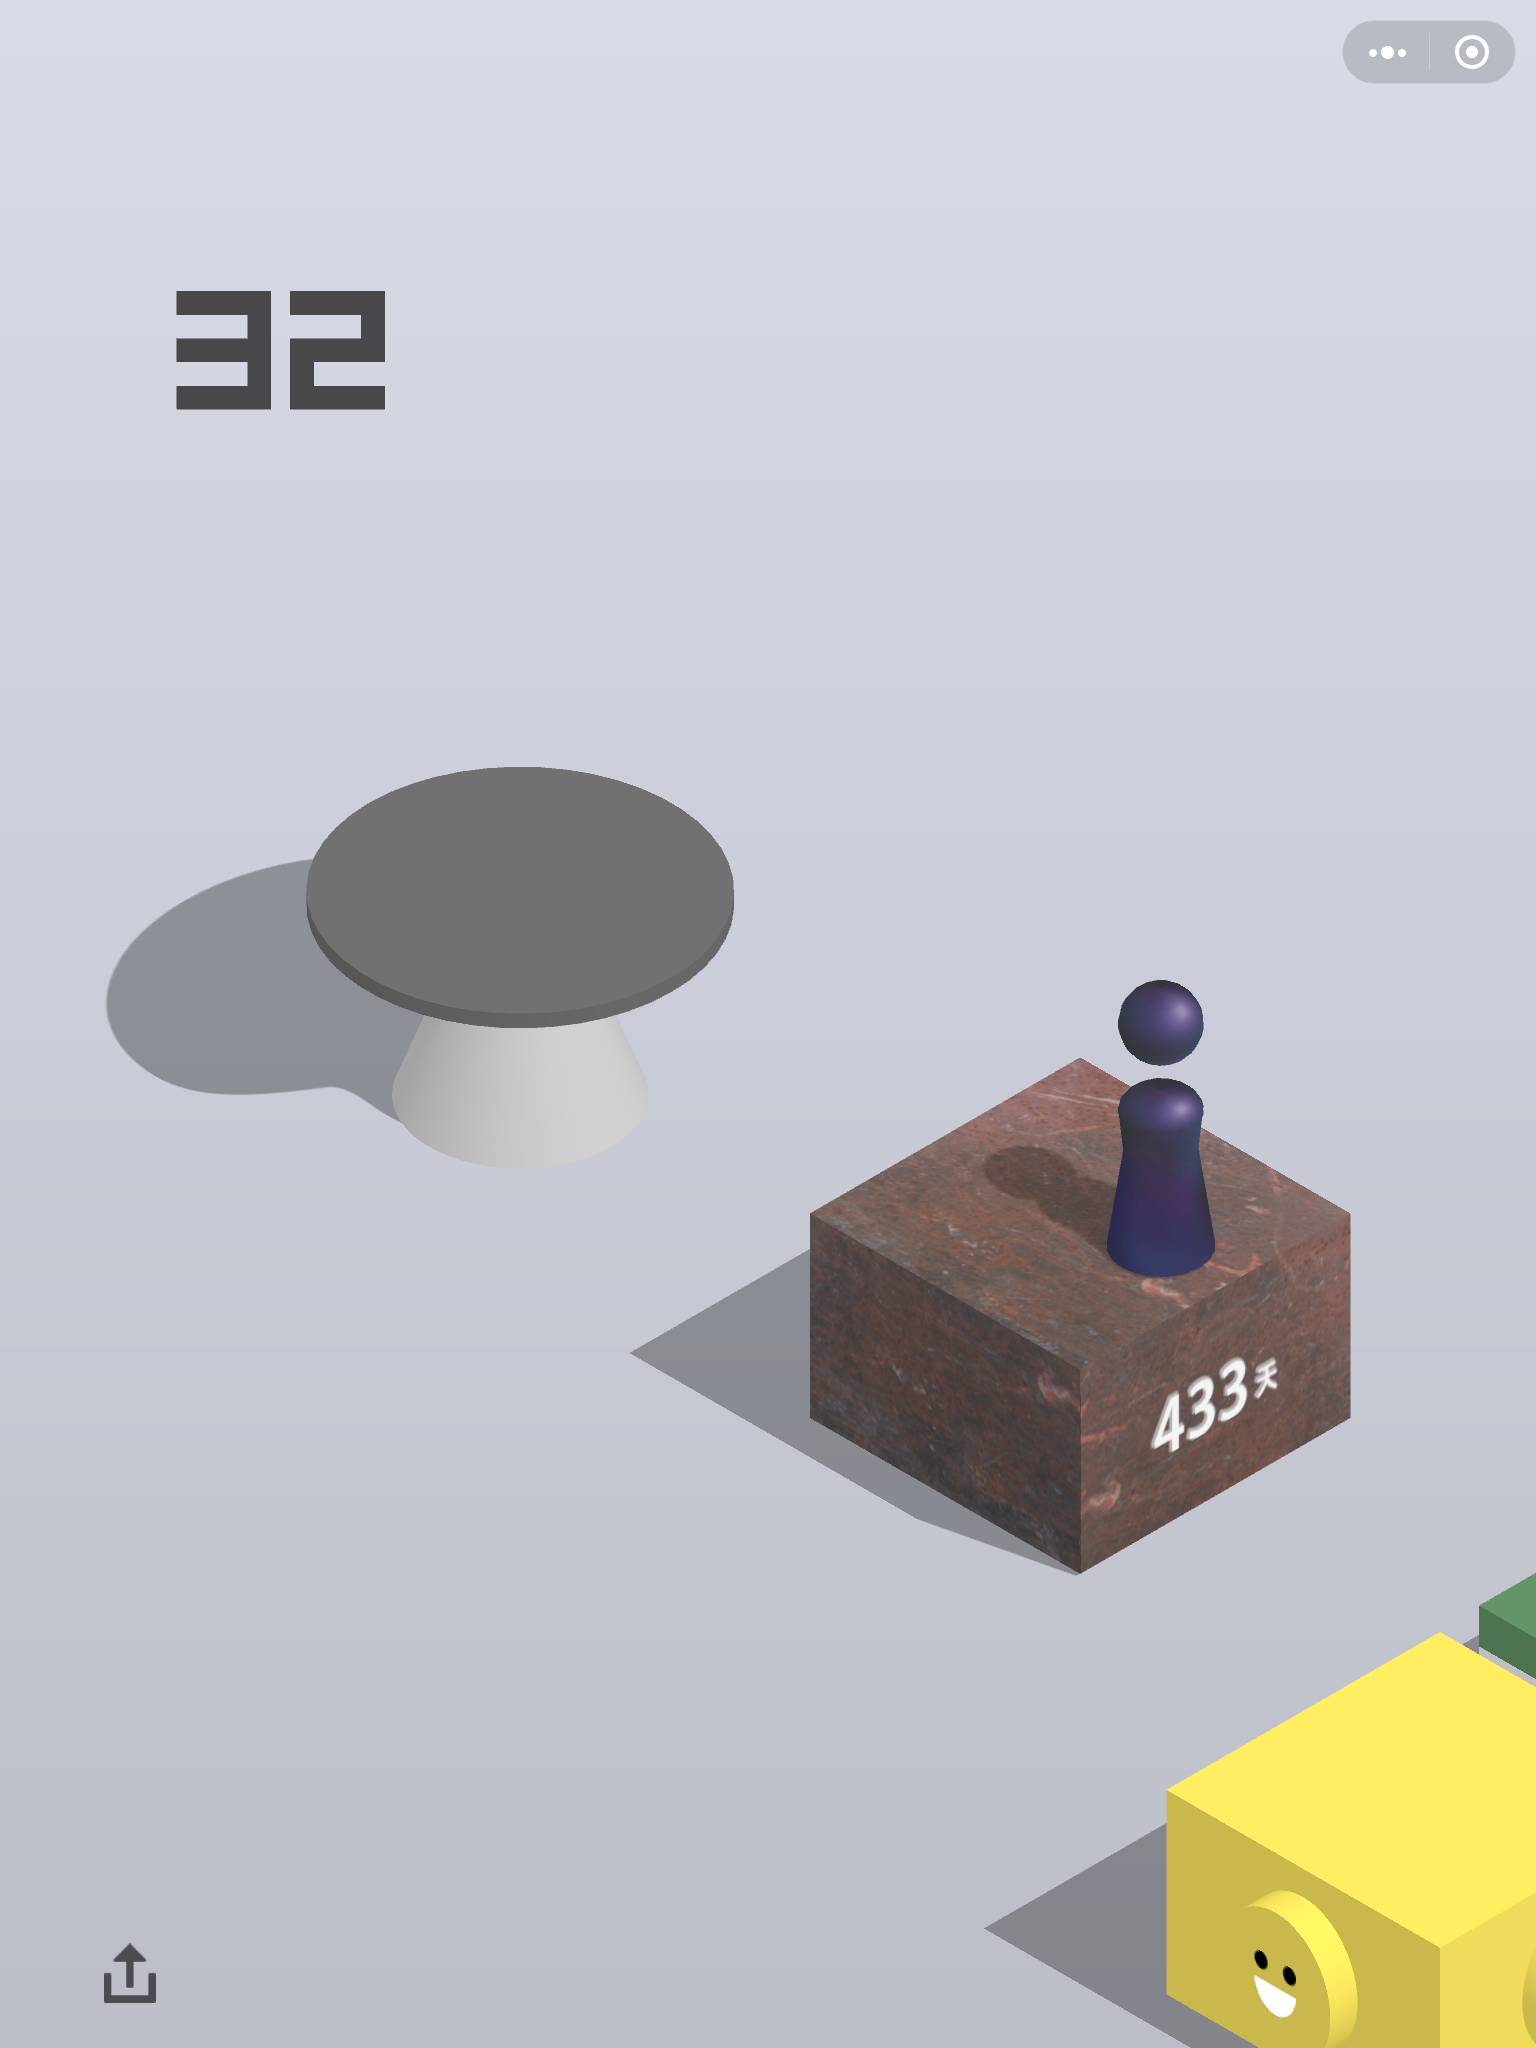c: (300, 760, 744, 1179)
f: (802, 1055, 1359, 1576), (1158, 1624, 1536, 2048)
r: (1104, 977, 1221, 1280)
